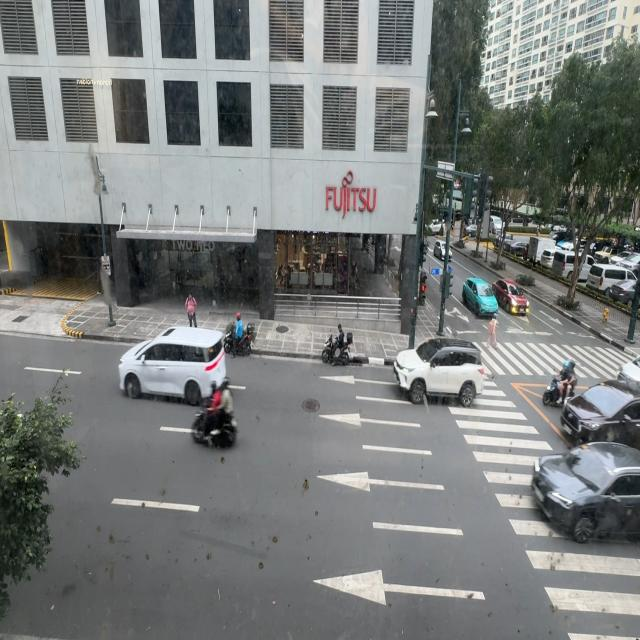crossing: (488, 310, 501, 360)
